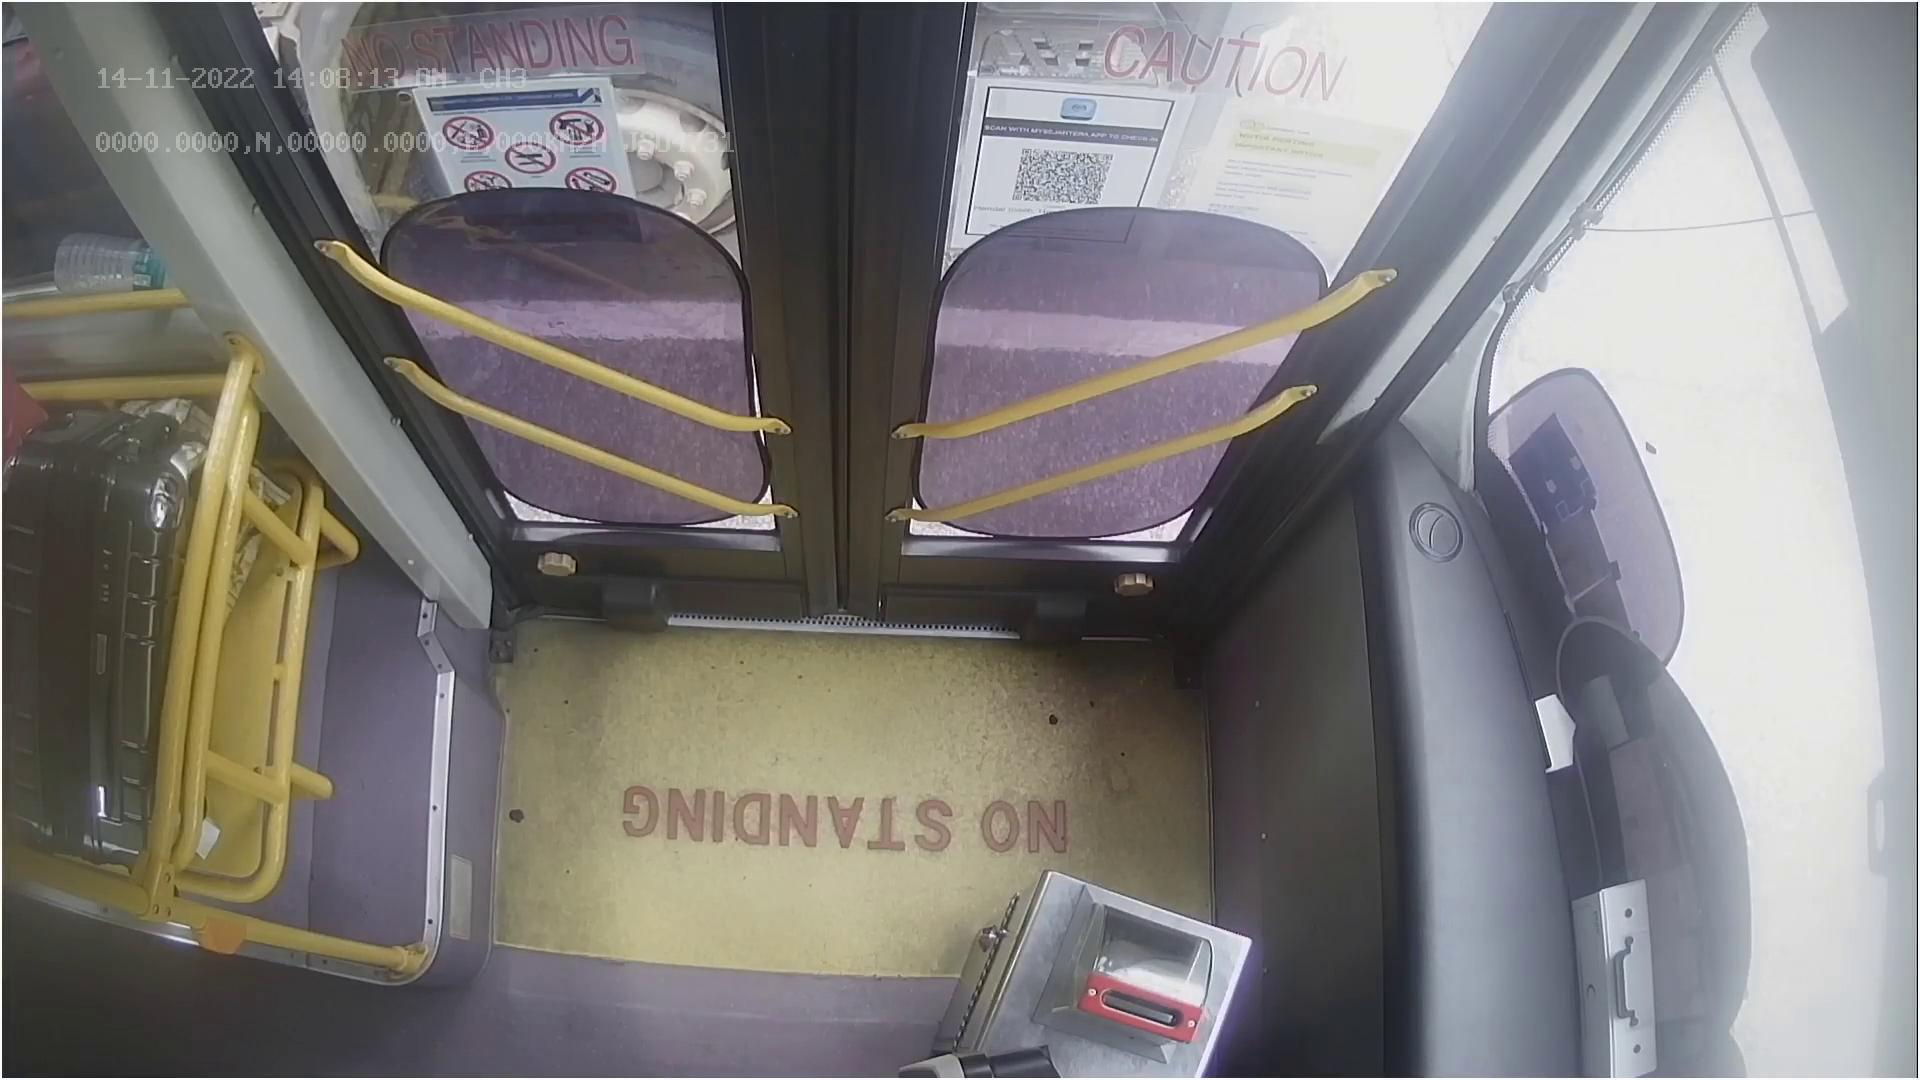close: (284, 0, 1439, 171)
